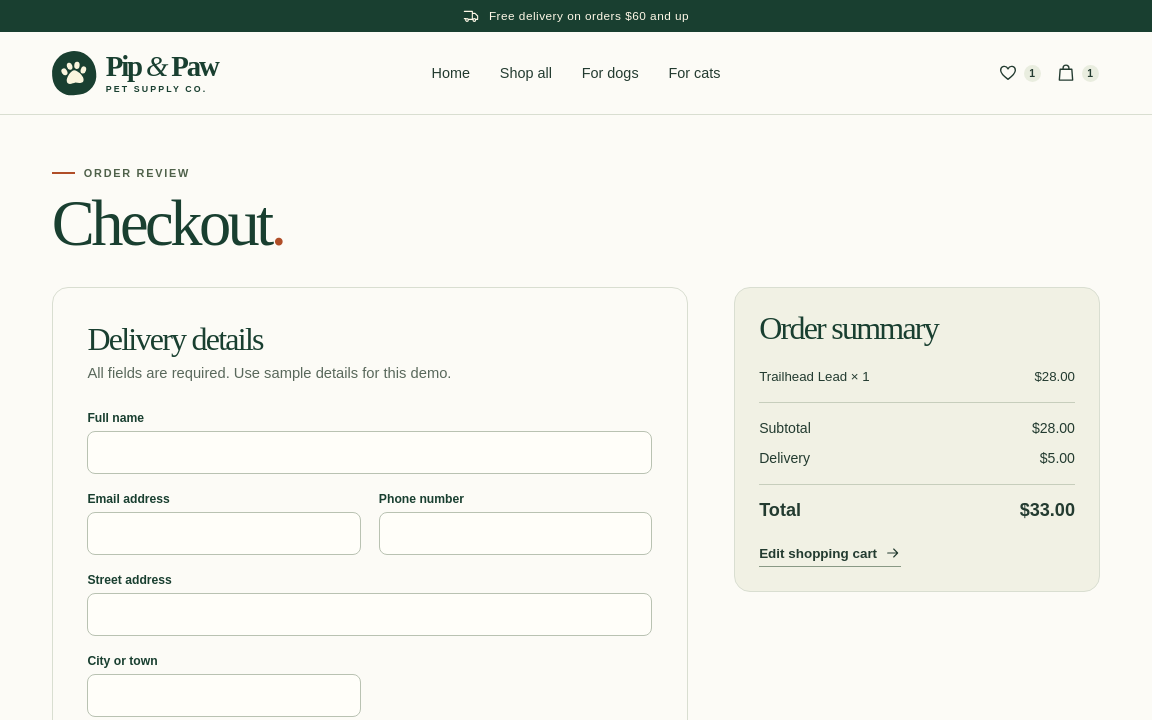
Test: shopping through the rendered application › shows an error at each invalid checkout field and keeps the cart intact
Type "invalid" into the field labelled "Email address". click: (224, 534)
box: 87,512 -> 361,555
(page scrolled)
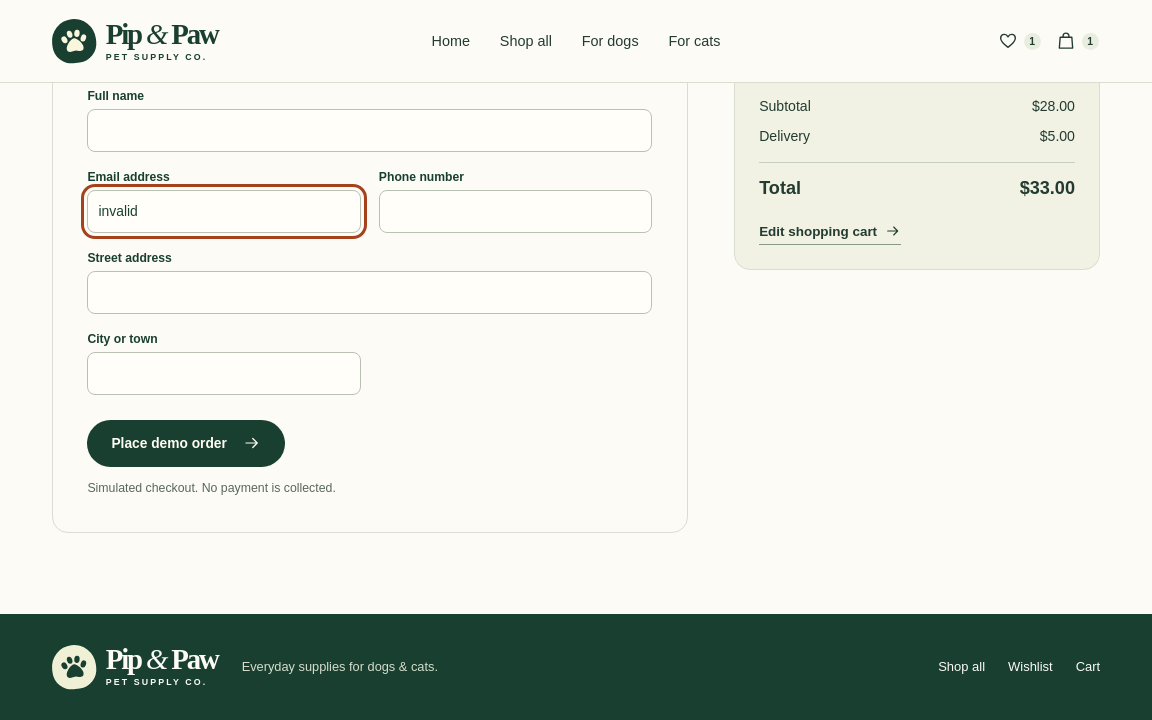
Click the button "Place demo order". click: (186, 444)
box: 87,420 -> 285,467
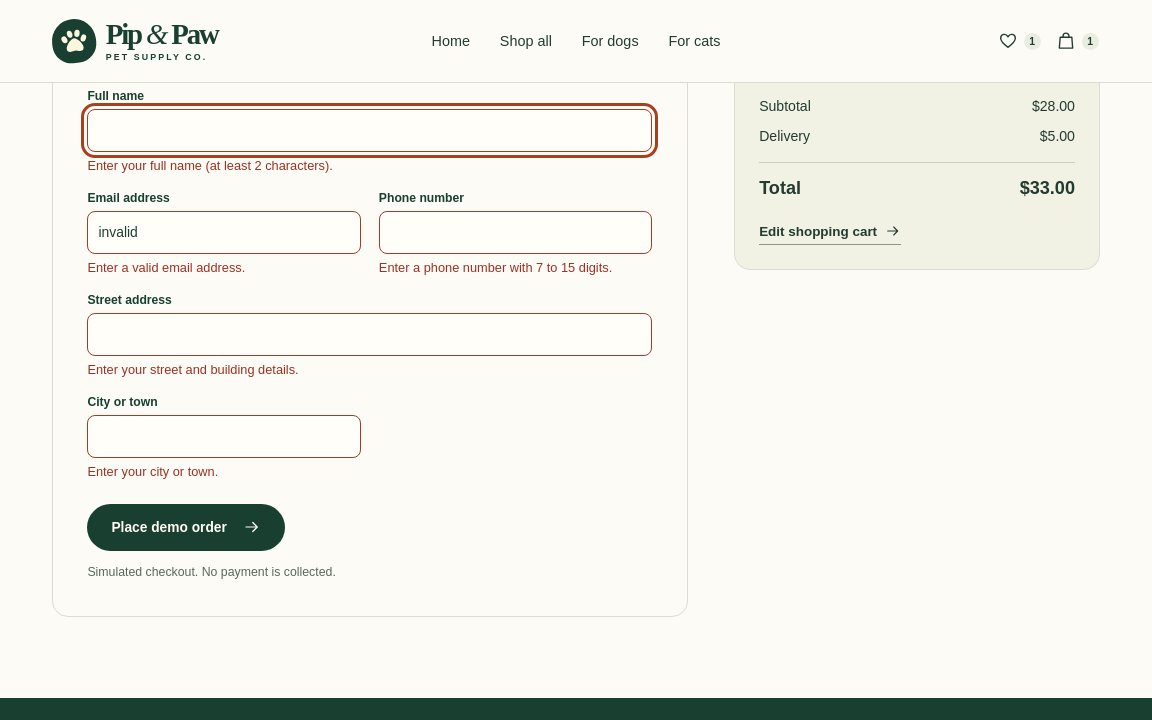
Expected: the link named "Cart, 1 item" is shown, 1056,31 -> 1099,51
Result: the number of messages is 5 at 87,158 -> 333,173; 87,260 -> 245,275; 379,260 -> 652,275; 87,362 -> 299,377; 87,464 -> 218,479
